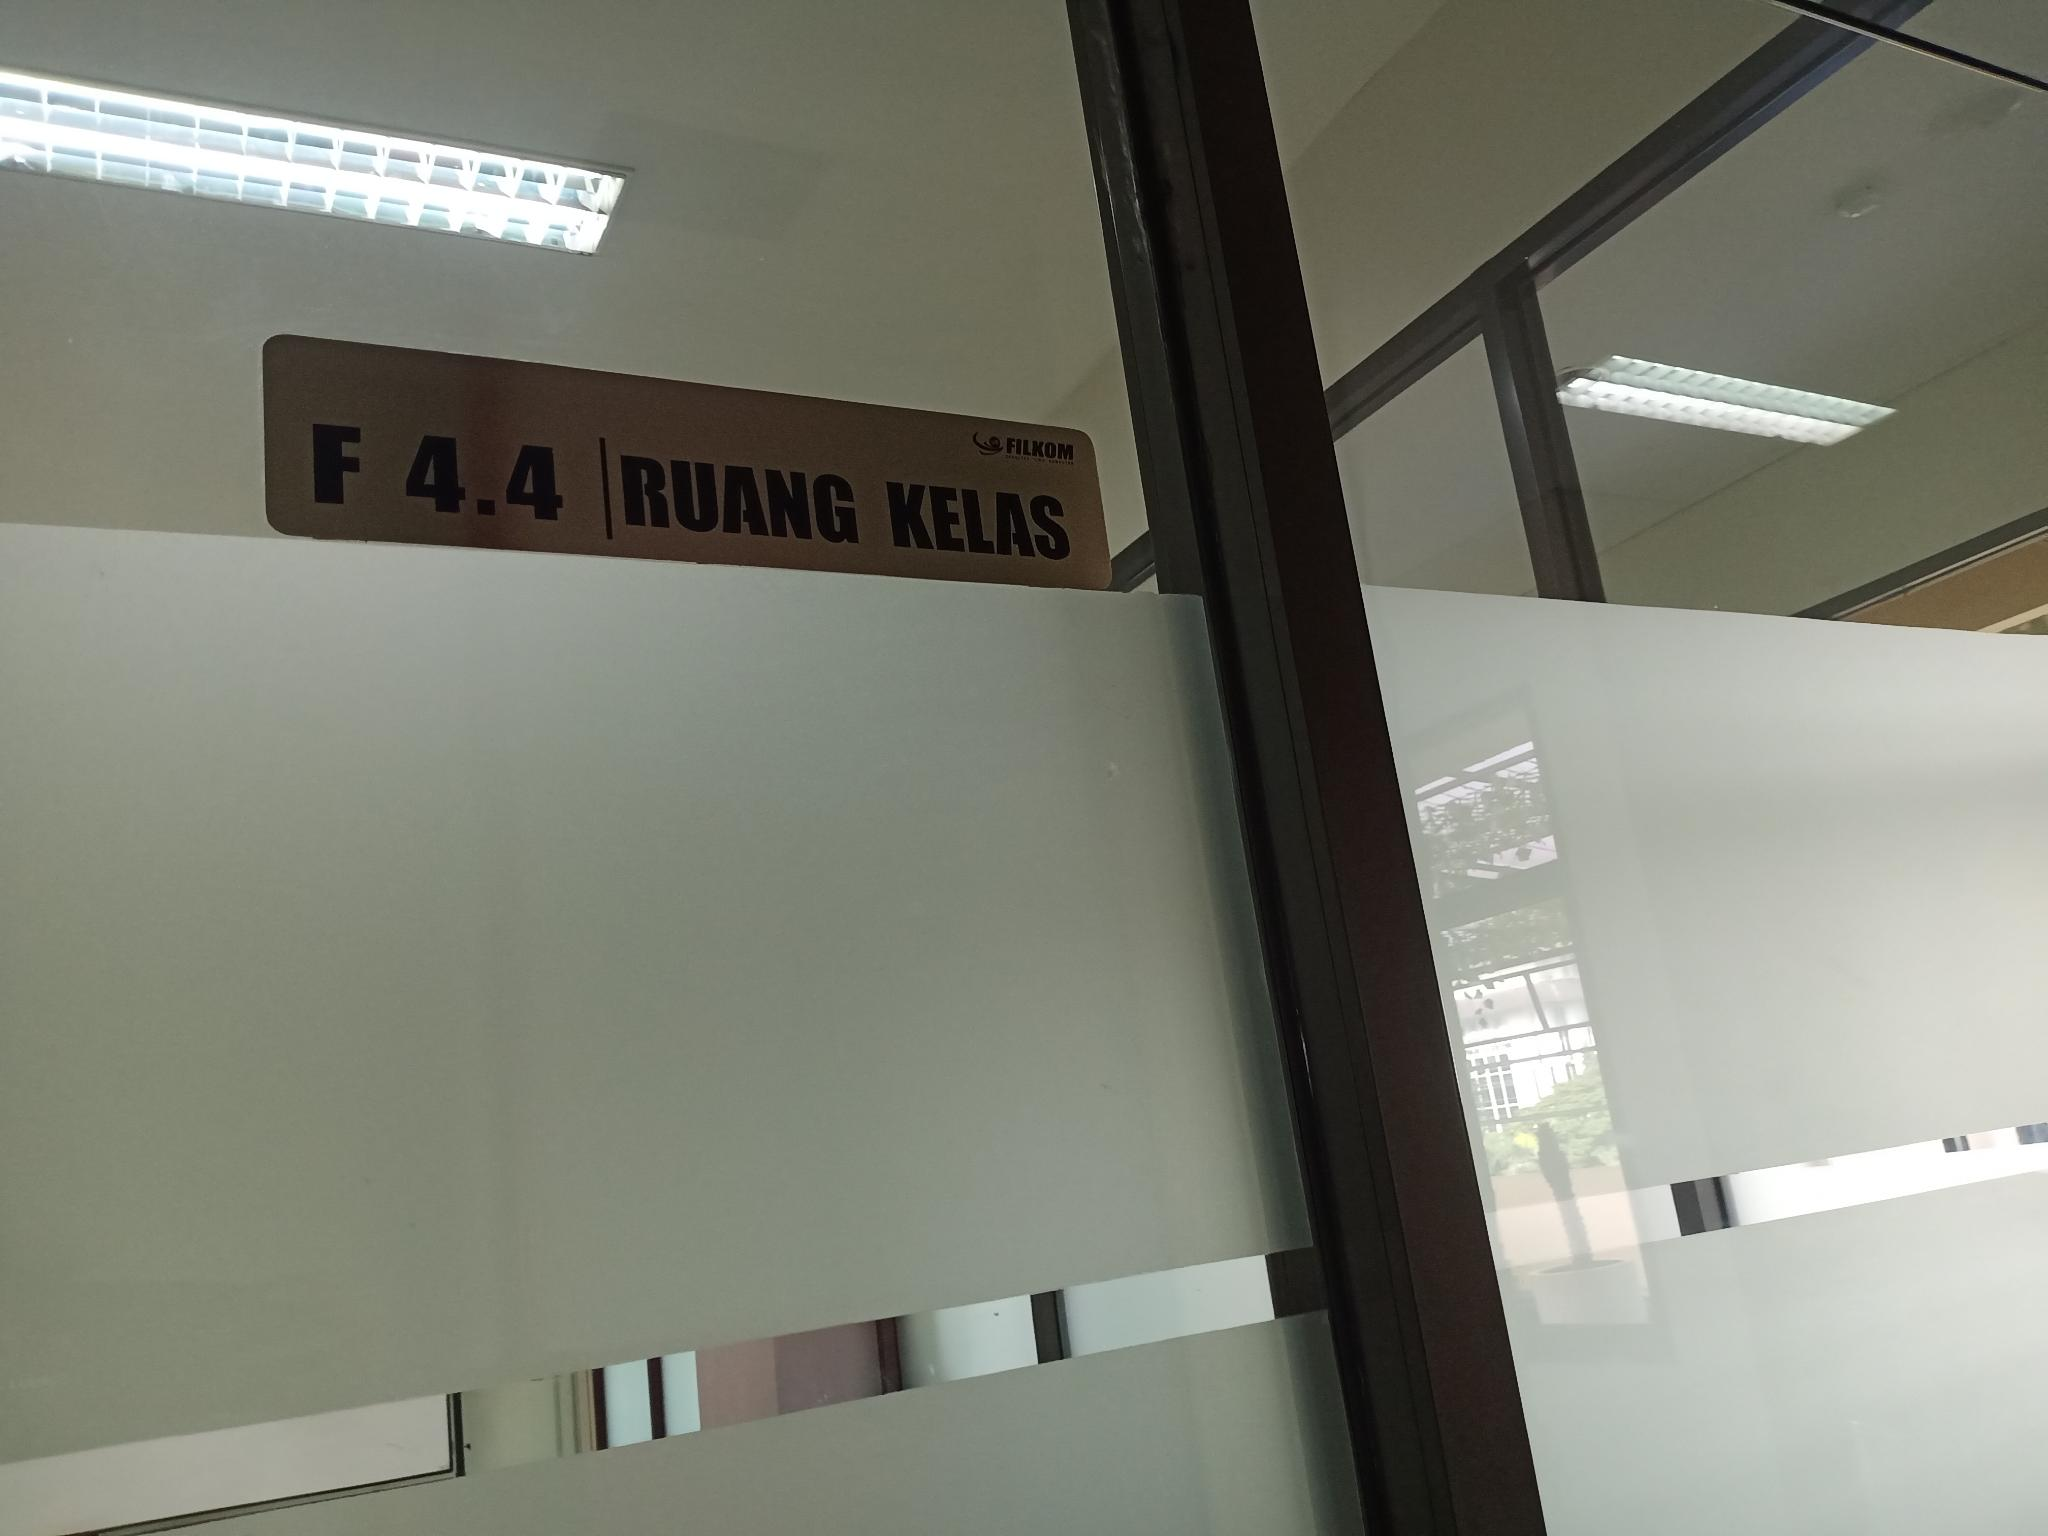plate: (263, 331, 1113, 592)
